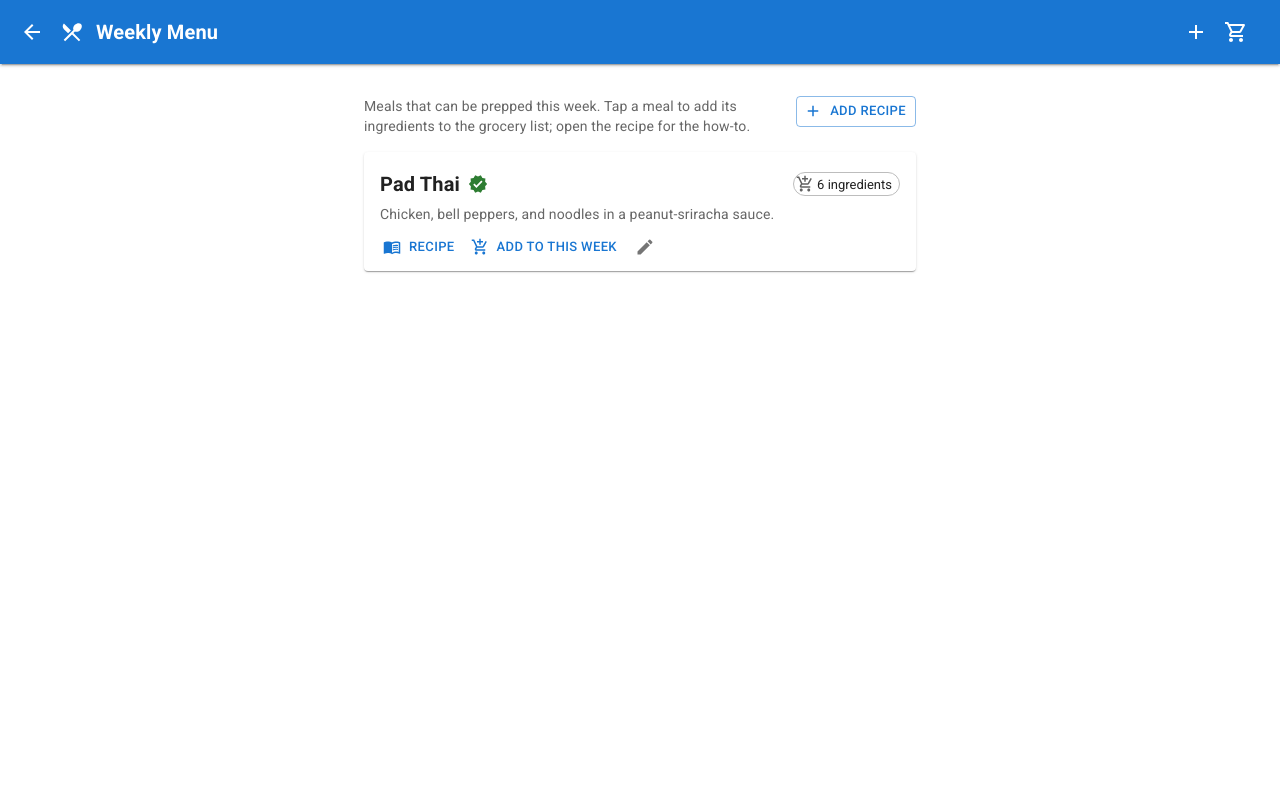
it: toolbar navigation to the menu › the menu page goes back to chores and over to the grocery list
The width and height of the screenshot is (1280, 800).
Click the button named "grocery list" at (1236, 32), box x1=1216 y1=12 x2=1256 y2=52
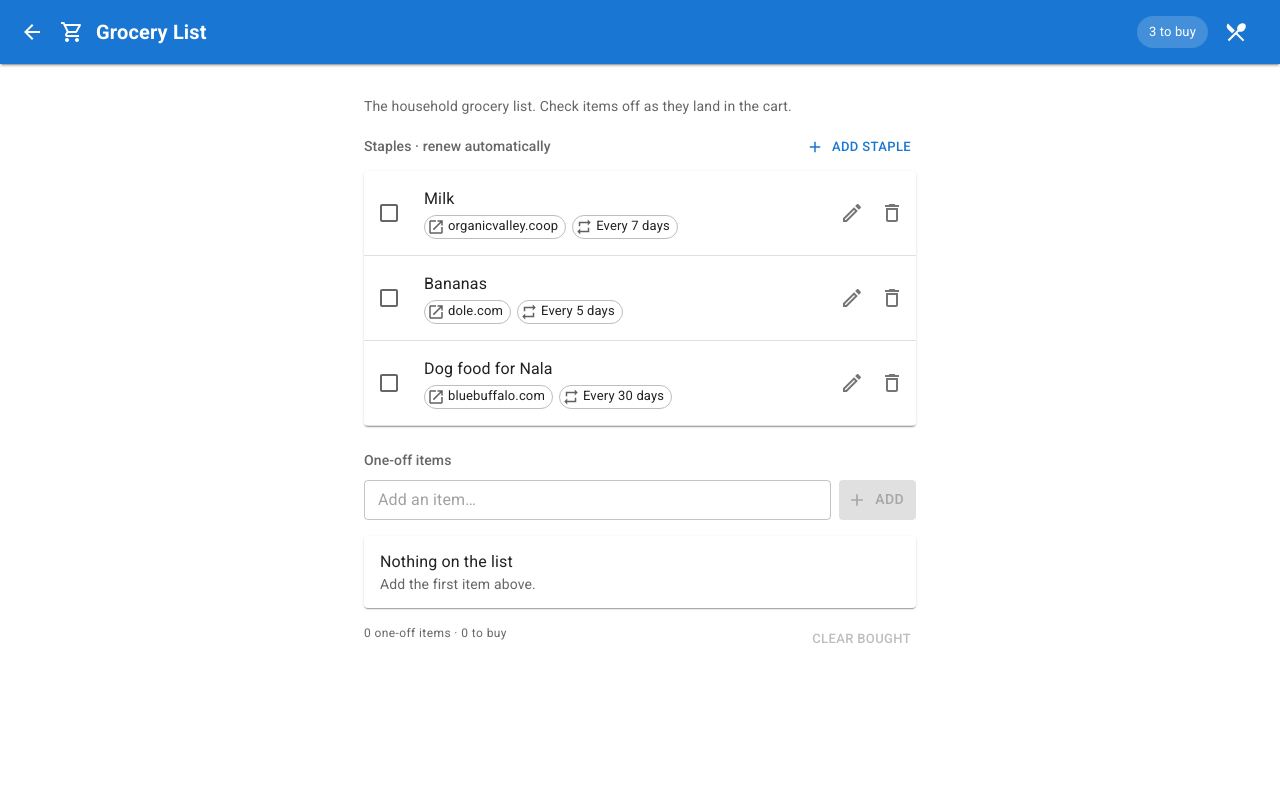
Click the button named "weekly menu" at (1236, 32), box x1=1216 y1=12 x2=1256 y2=52
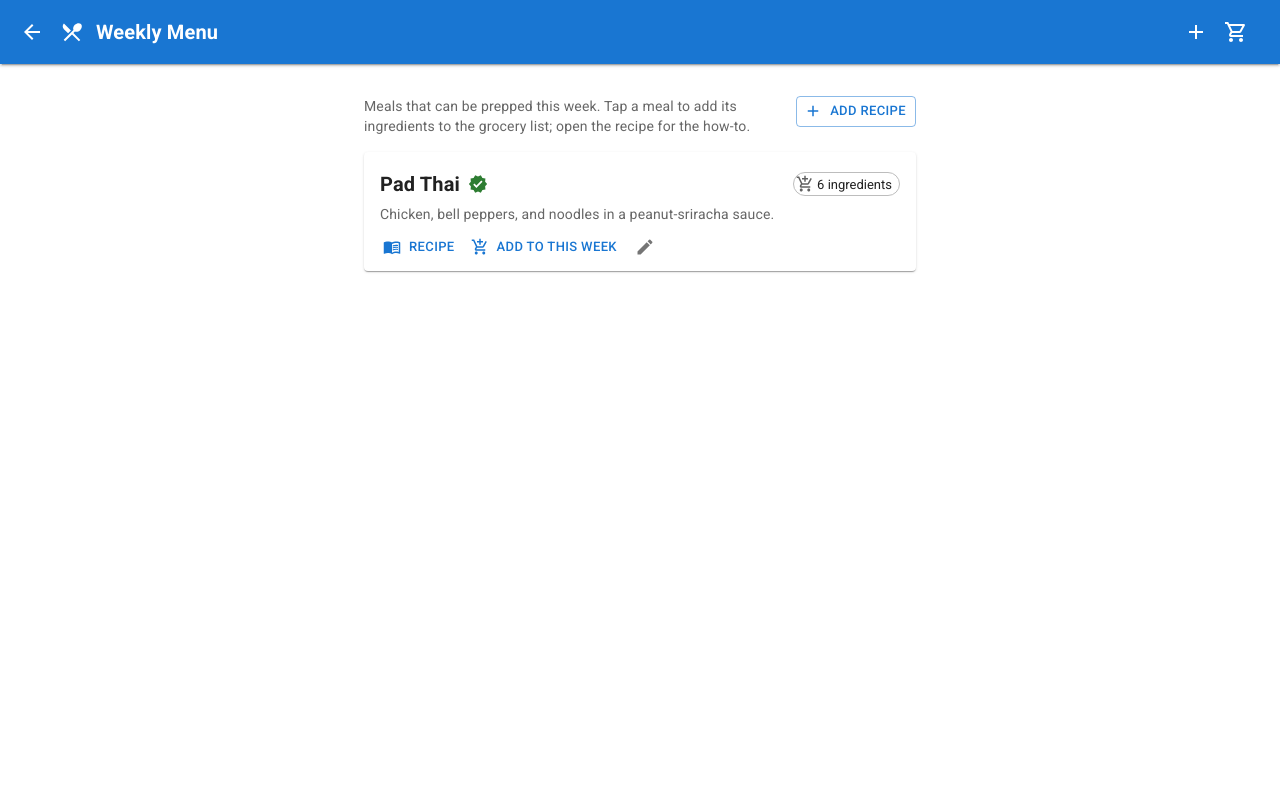
Click the button named "back to chores" at (32, 32), box x1=12 y1=12 x2=52 y2=52
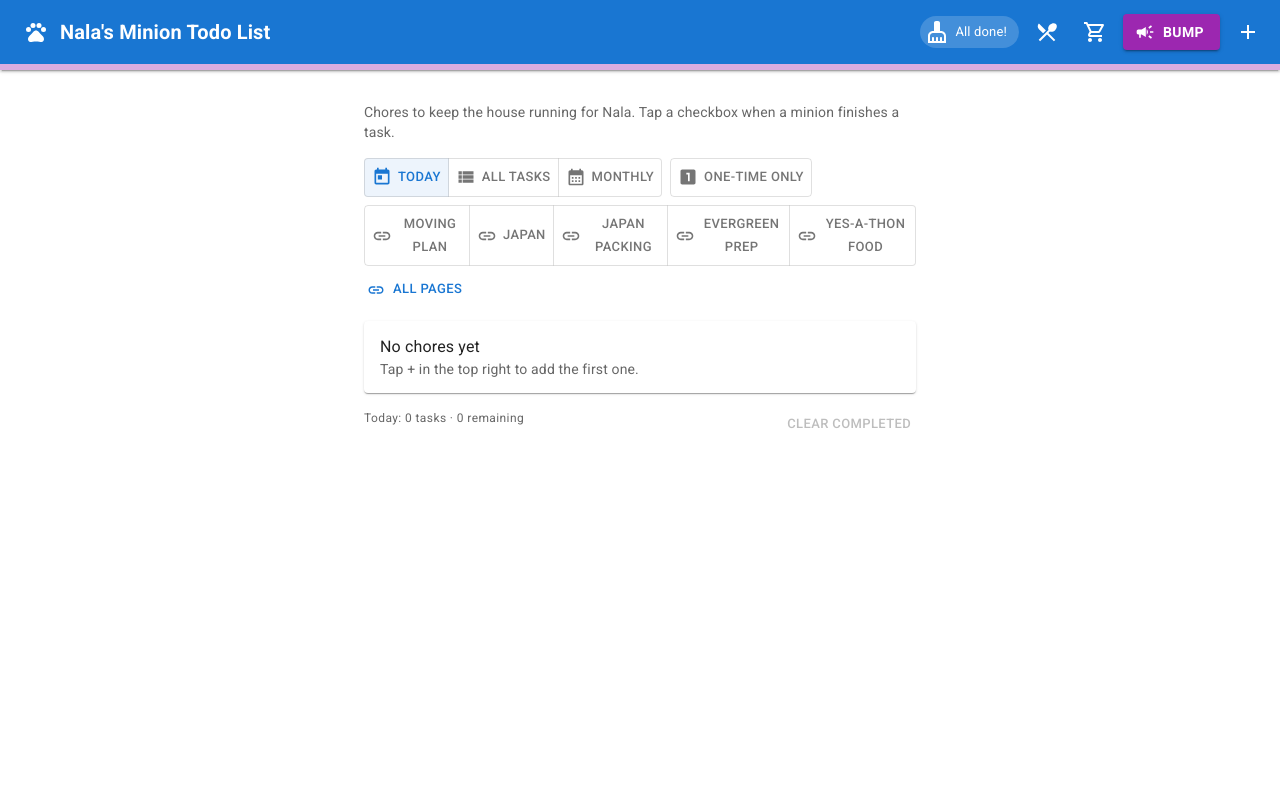
expect the heading "Nala's Minion Todo List" is shown: met, box x1=60 y1=20 x2=270 y2=44
